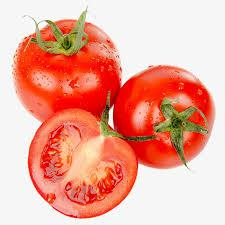tomato: (14, 19, 120, 126), (113, 64, 215, 169)
